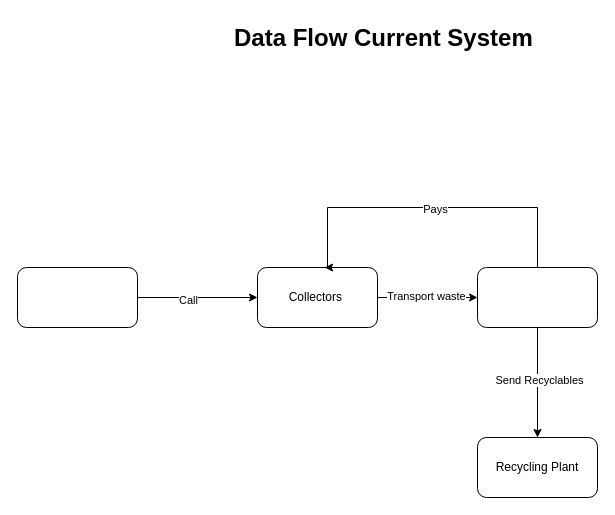
Some shapes in this 615 by 515 pixel diagram are drawn without their labels. Here are the shapes that lost their labels. From the top down, the centre of each, then its label:
pixel 77 297: Household
pixel 537 297: Aggregators
